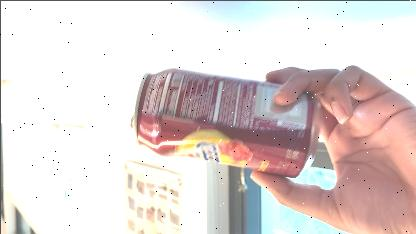Can: (126, 60, 324, 188)
